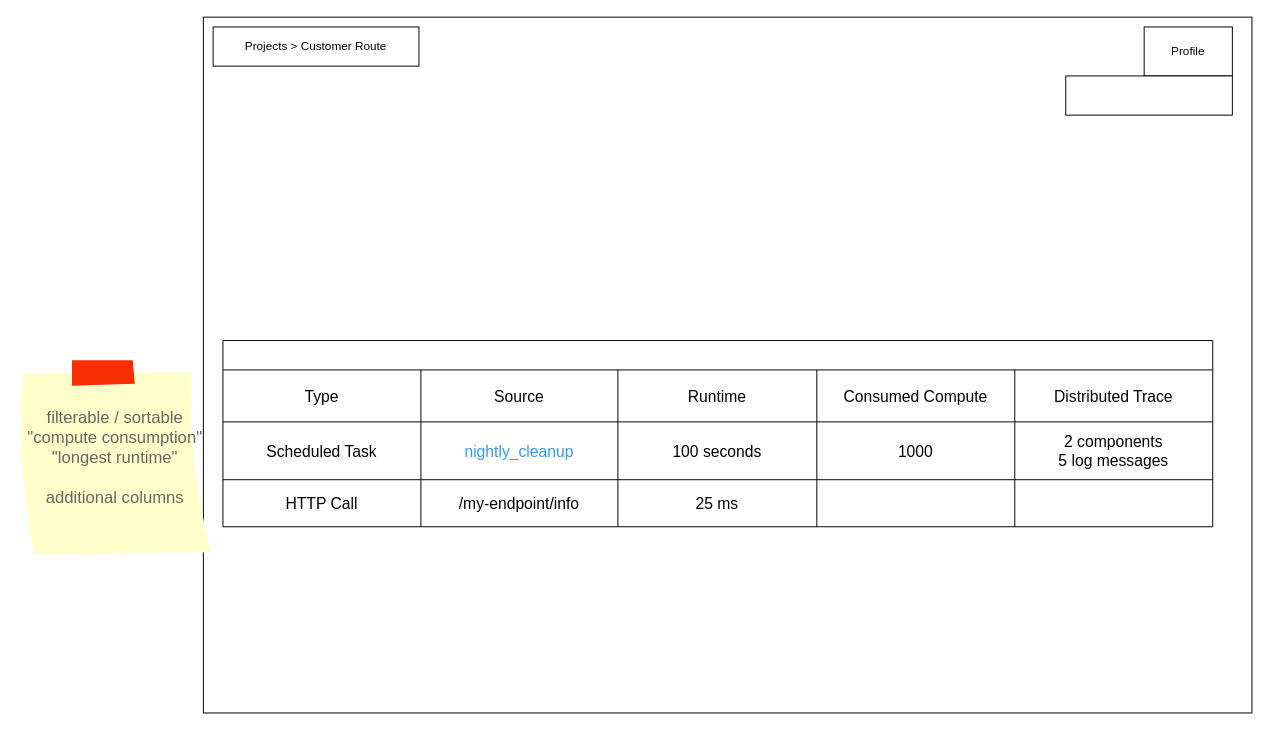
Image size: 1269x730. Some labels were removed from this diagram. Each missing label, with the box of its shape:
Log In / Log Out: (1065, 75, 1232, 115)
Recent Events: (222, 340, 1213, 527)
